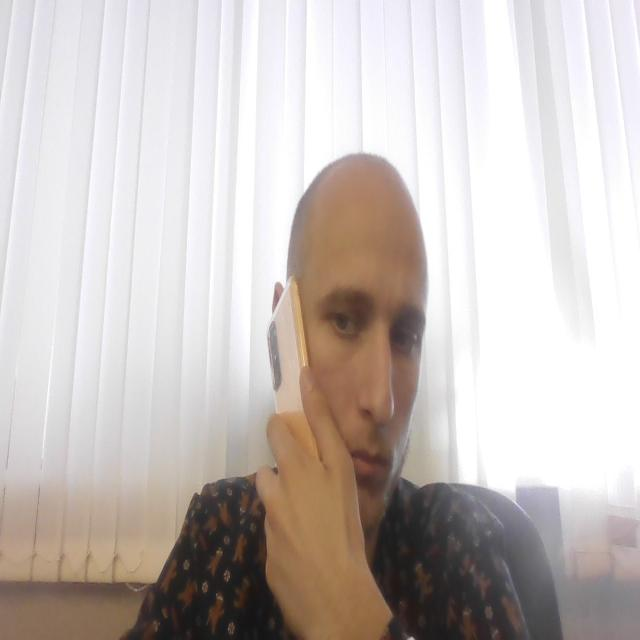phone: (266, 278, 320, 483)
